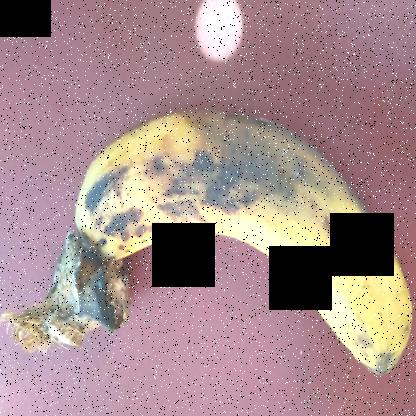overripe: (74, 92, 416, 386)
